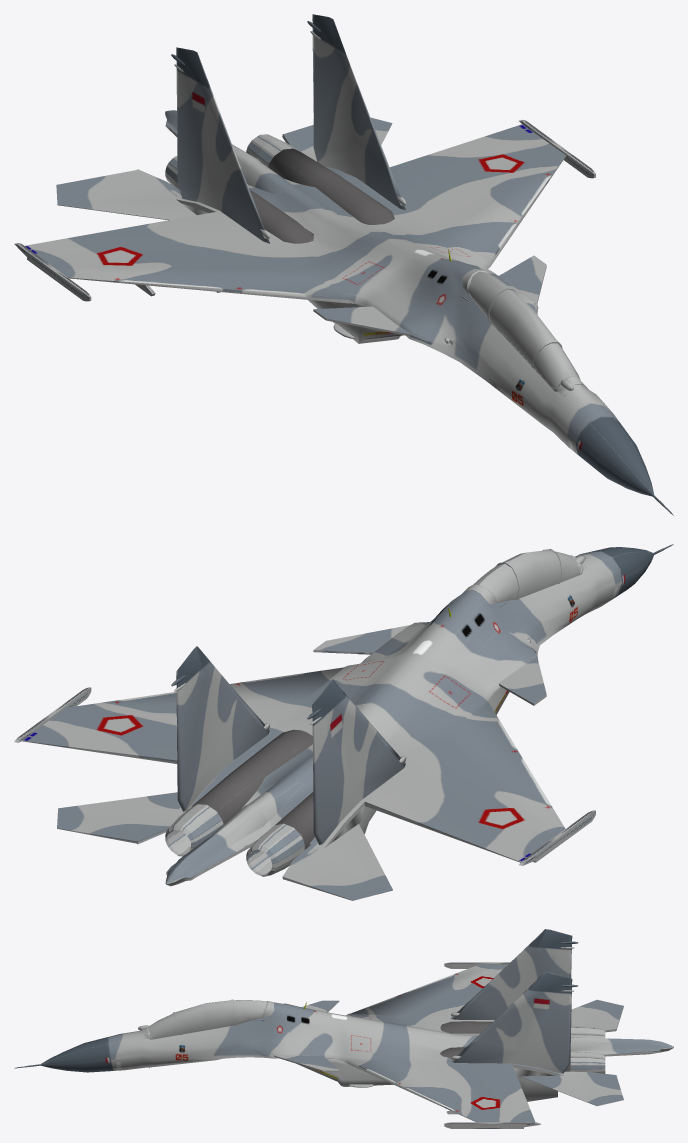
The picture shows the model from 3 angles, top to bottom: view 1: azimuth 30°, elevation 25°; view 2: azimuth 150°, elevation 25°; view 3: azimuth 270°, elevation 25°; orthographic projection. The views are drawn at different scales.
Visible parts, largest first — view 1: Su-30SM; view 2: Su-30SM; view 3: Su-30SM.
Boxes of the visible parts, <box> form: Su-30SM: <box>14,14,673,515</box>; Su-30SM: <box>14,544,673,900</box>; Su-30SM: <box>14,929,673,1128</box>.
Bounding box in the file's own units: 1088 × 411 × 1881.
